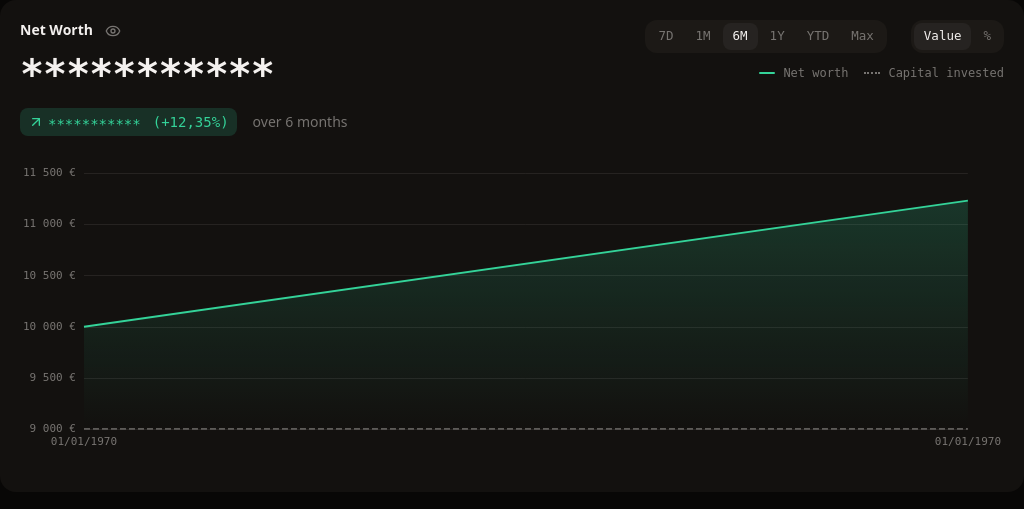
it: NetWorthCard in private mode › masks the gain with the headline, keeps the percentage, and one eye reveals both
This screenshot has width=1024, height=509.
Expected: the text "+12,35%" is shown, [161,114,220,130]
Expected: the text "234,56" is not shown
Click the button named "Show amount" at (113, 31), box [97,15,129,47]
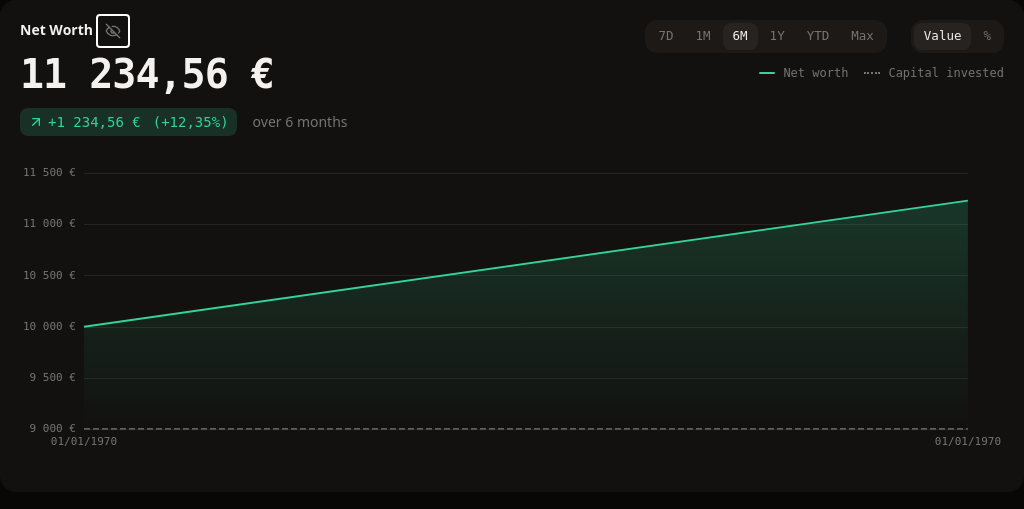
Expected: the text "11 234,56 €" is shown, [20,51,274,97]
Expected: the text "+1 234,56 €" is shown, [48,112,141,132]
